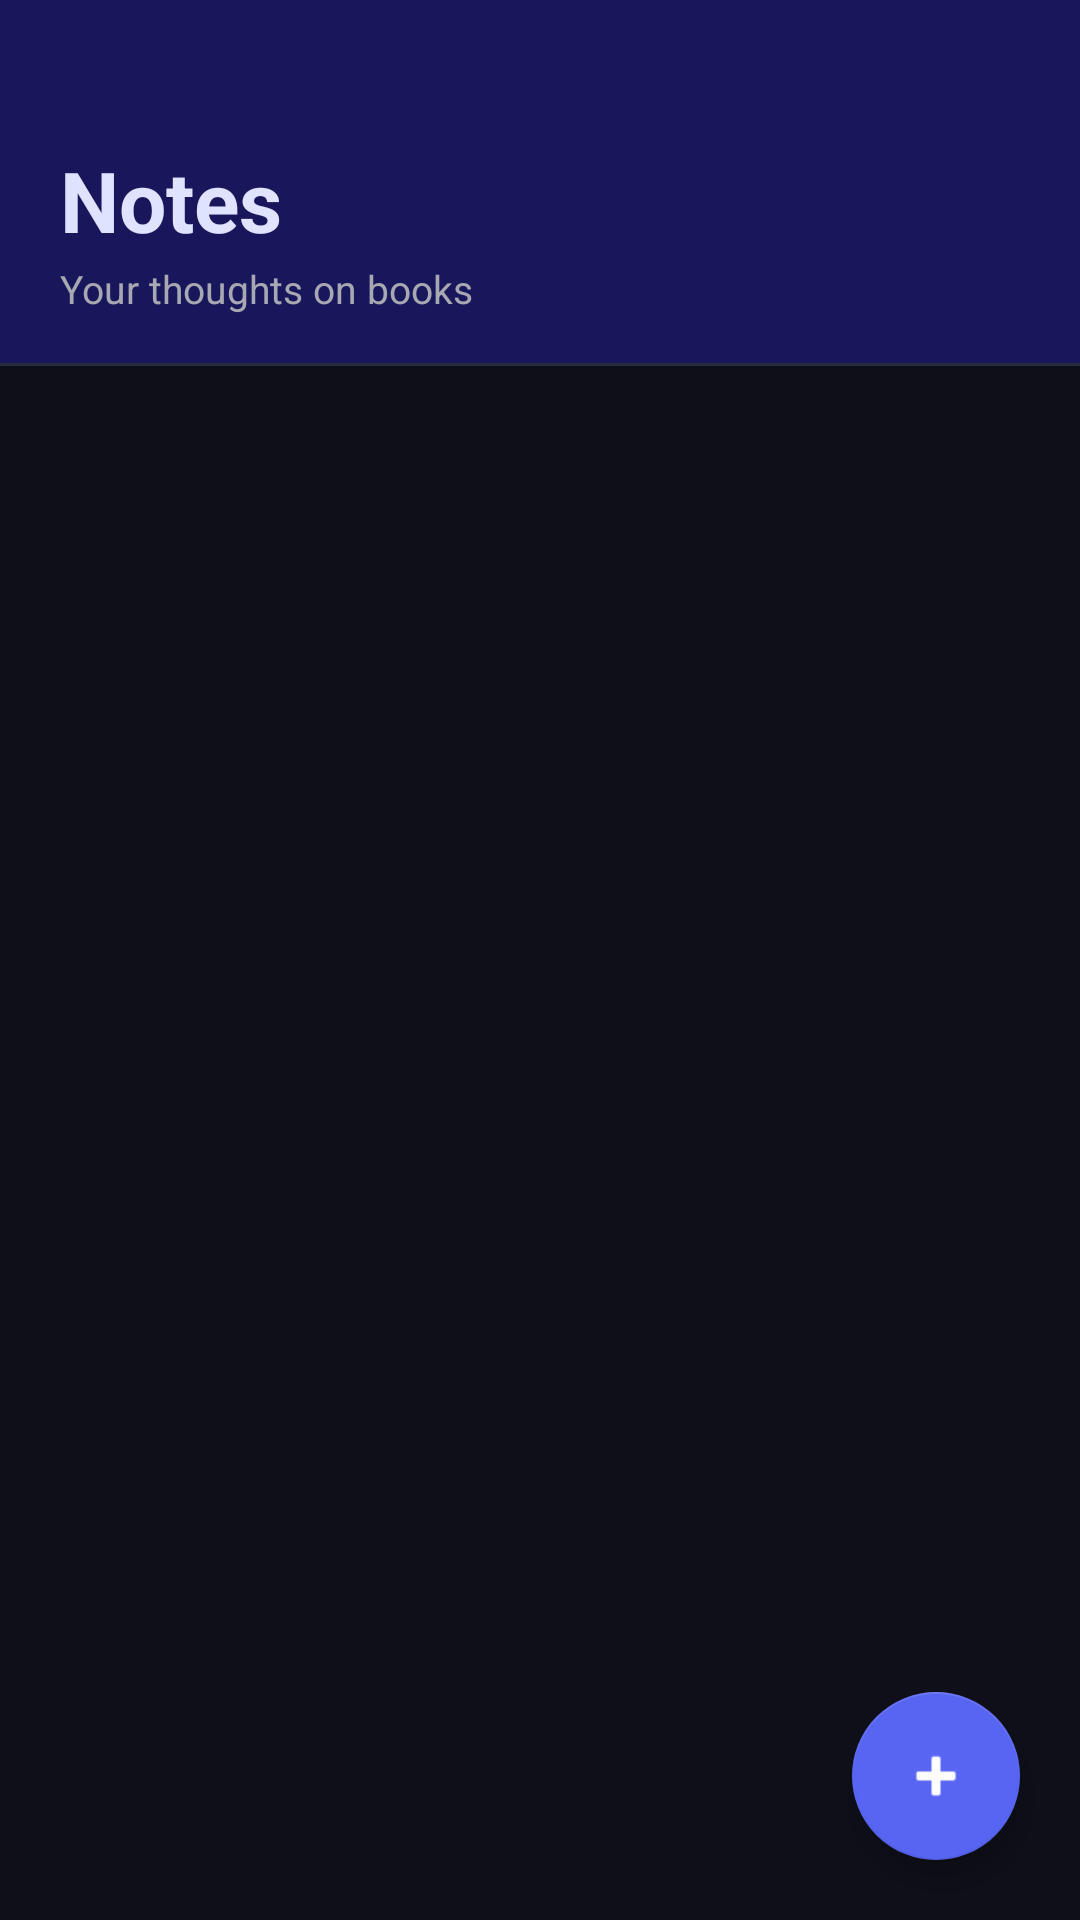

Named icons in this screenshot (1080*1920) and their centers, (x,y):
Add Note: (936,1776)
